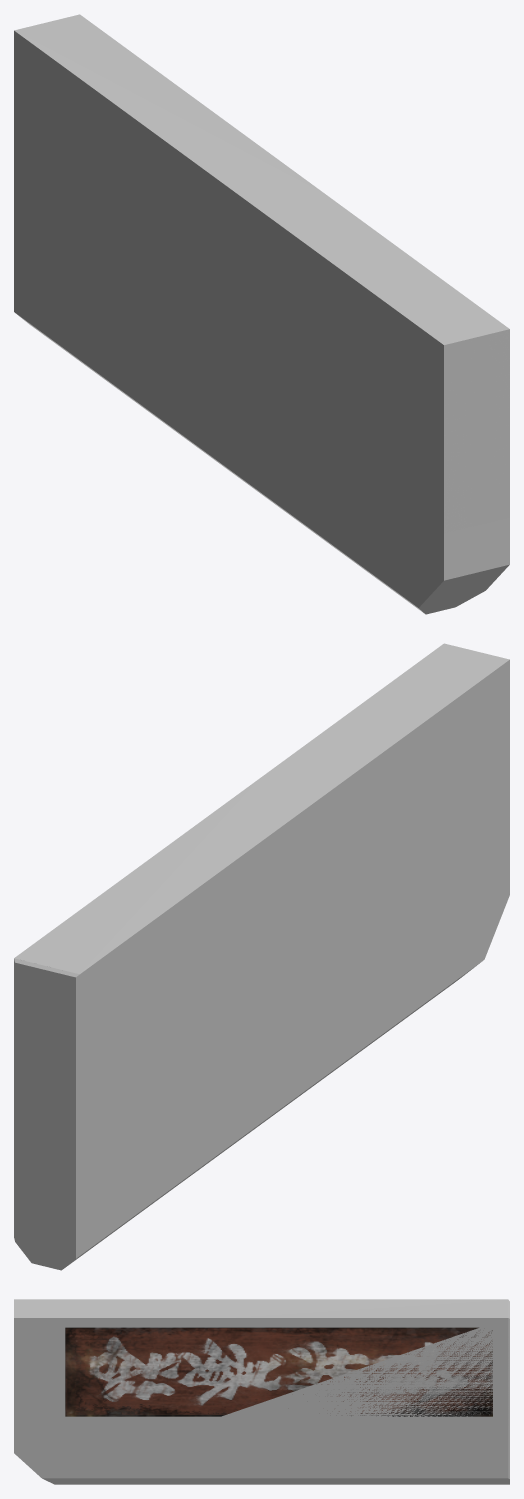
Rendered from sign_store_a.fbx.
The picture shows the model from 3 angles, top to bottom: view 1: azimuth 30°, elevation 25°; view 2: azimuth 150°, elevation 25°; view 3: azimuth 270°, elevation 25°; orthographic projection. The views are drawn at different scales.
Visible parts, largest first — view 1: sign_store_a_ConvexHulls, sign_store_a; view 2: sign_store_a_ConvexHulls, sign_store_a; view 3: sign_store_a_ConvexHulls, sign_store_a.
Boxes of the visible parts, box(x1,y1,x2,y2) form: sign_store_a_ConvexHulls: box(14, 30, 509, 614); sign_store_a: box(14, 14, 509, 533); sign_store_a_ConvexHulls: box(14, 643, 509, 1270); sign_store_a: box(14, 778, 259, 1270); sign_store_a_ConvexHulls: box(14, 1299, 509, 1484); sign_store_a: box(14, 1299, 508, 1426).
Size of the model in its own units: 23.03 by 261 by 99.89.
